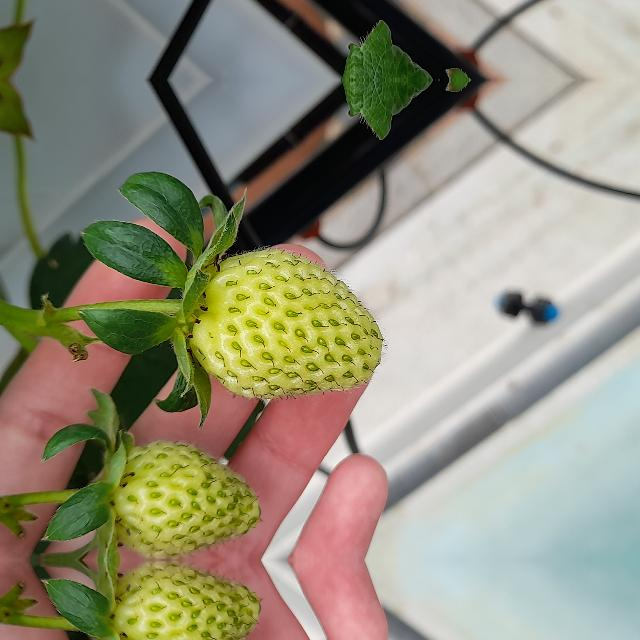Health_25: (189, 249, 383, 399)
